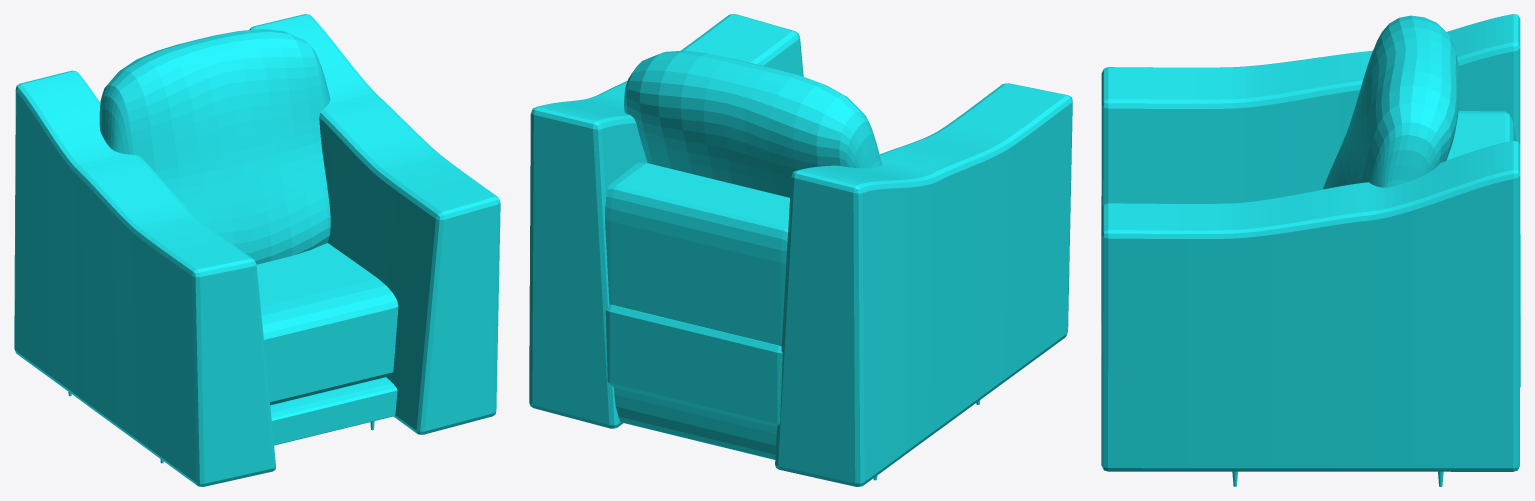
Rendered from sofa.glb.
3 renders of one model, left to right at view 1: azimuth 30°, elevation 25°; view 2: azimuth 150°, elevation 25°; view 3: azimuth 270°, elevation 25°, orthographic. The views are drawn at different scales.
Parts seen in each view (by area): view 1: arm_7, arm_10, cushion_12, cushion_11, sofa board_9; view 2: arm_7, back sofa board_8, arm_10, cushion_12, cushion_11; view 3: arm_10, arm_7, cushion_12, back sofa board_8.
Boxes of the visible parts, <box> form: arm_7: <box>14,70,275,486</box>; arm_10: <box>249,14,500,434</box>; cushion_12: <box>99,29,330,264</box>; cushion_11: <box>256,243,398,405</box>; sofa board_9: <box>270,377,397,445</box>; arm_7: <box>775,83,1072,486</box>; back sofa board_8: <box>605,162,789,459</box>; arm_10: <box>529,14,803,428</box>; cushion_12: <box>624,50,881,197</box>; cushion_11: <box>605,304,782,427</box>; arm_10: <box>1101,141,1520,471</box>; arm_7: <box>1101,14,1520,321</box>; cushion_12: <box>1323,15,1458,189</box>; back sofa board_8: <box>1446,111,1515,160</box>.
Bounding box in the file's own units: 0.9476 × 0.9813 × 0.9992.
